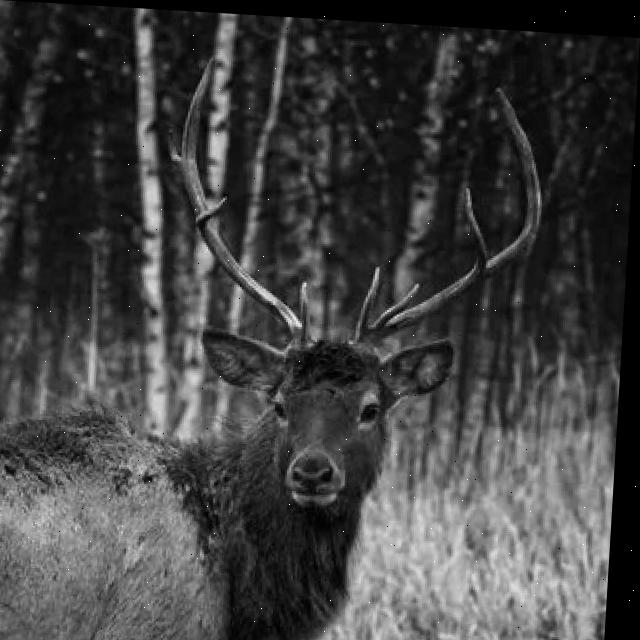Deer: (0, 162, 602, 640)
